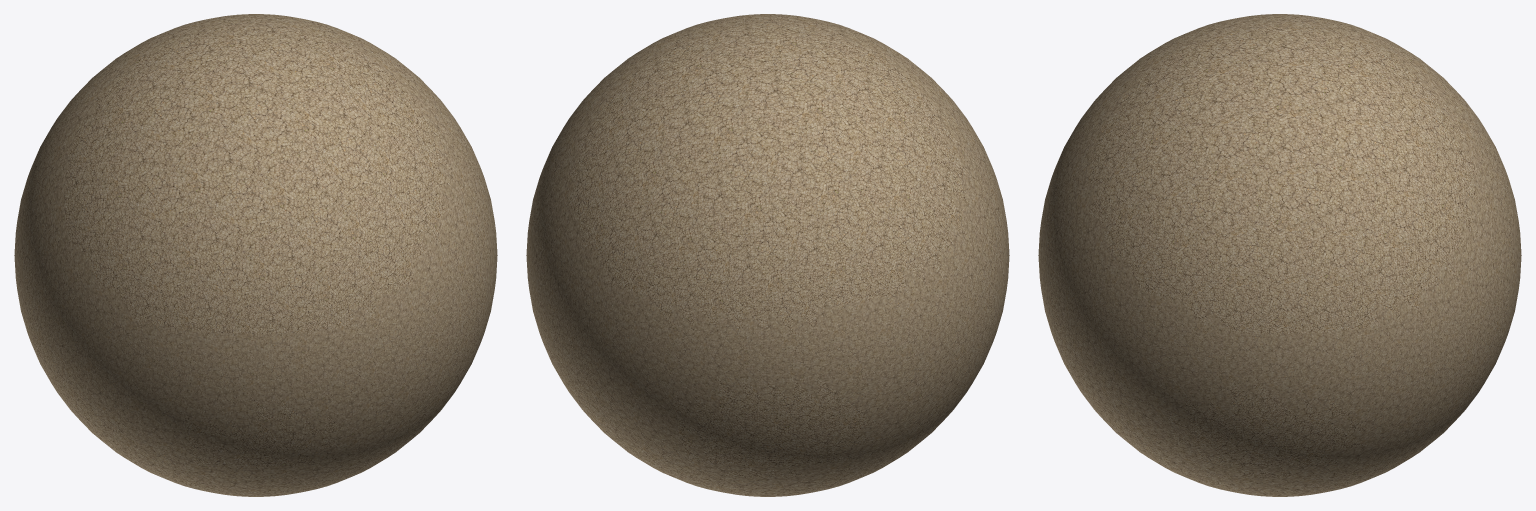
File: Planet 1.FBX
The picture shows the model from 3 angles, left to right: view 1: azimuth 30°, elevation 25°; view 2: azimuth 150°, elevation 25°; view 3: azimuth 270°, elevation 25°; orthographic projection.
Parts seen in each view (by area): view 1: Sphere002; view 2: Sphere002; view 3: Sphere002.
Boxes of the visible parts, x1,y1,x2,y2 form: Sphere002: (14,14,497,496); Sphere002: (526,14,1009,496); Sphere002: (1038,14,1521,496).
Size of the model in its own units: 3114 by 3114 by 3114.
1 material, 1 textured.
